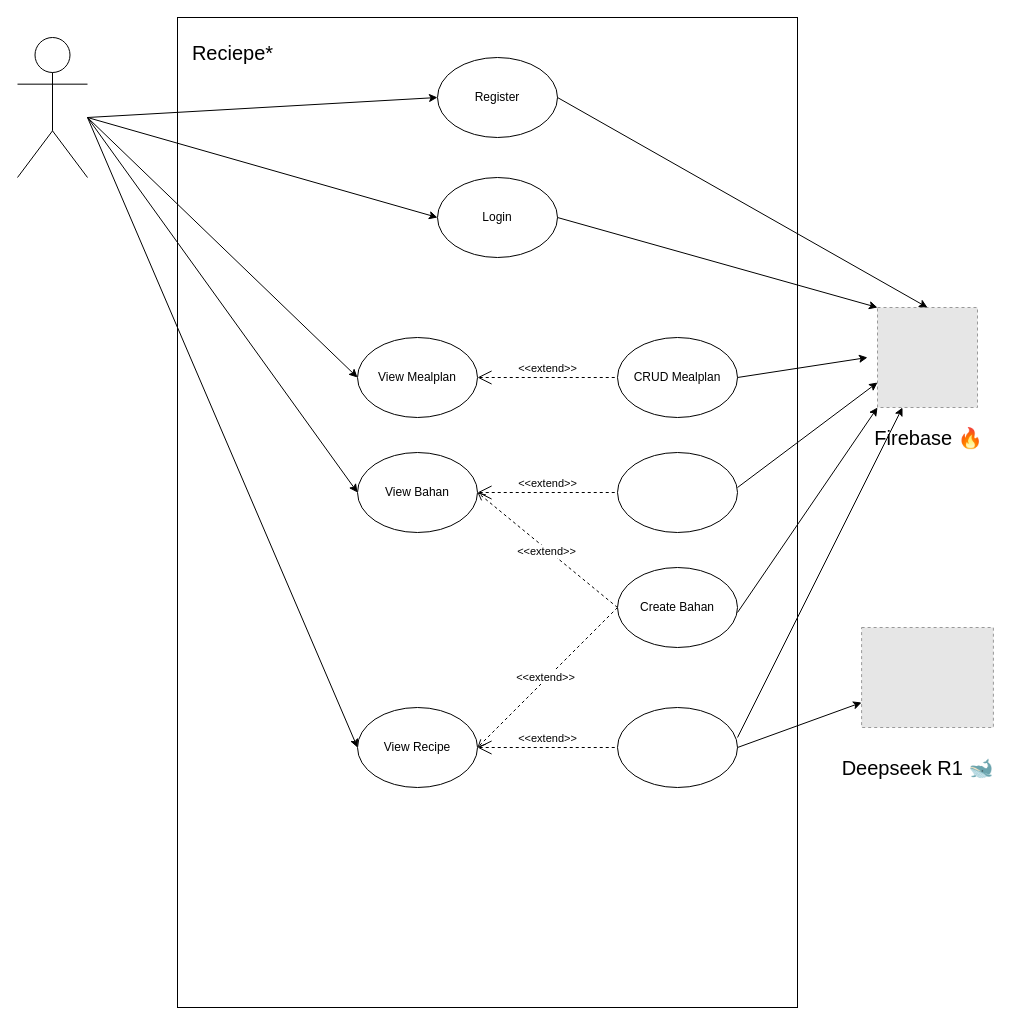
This 1025x1025 diagram has some shape labels left out. Grey dashed boxes stand in for pictures. Each missing label, with the centre of its shape:
"CRUD Recipe" belongs at point (677, 747).
"RUD Bahan" belongs at point (677, 492).
"User" belongs at point (52, 107).
